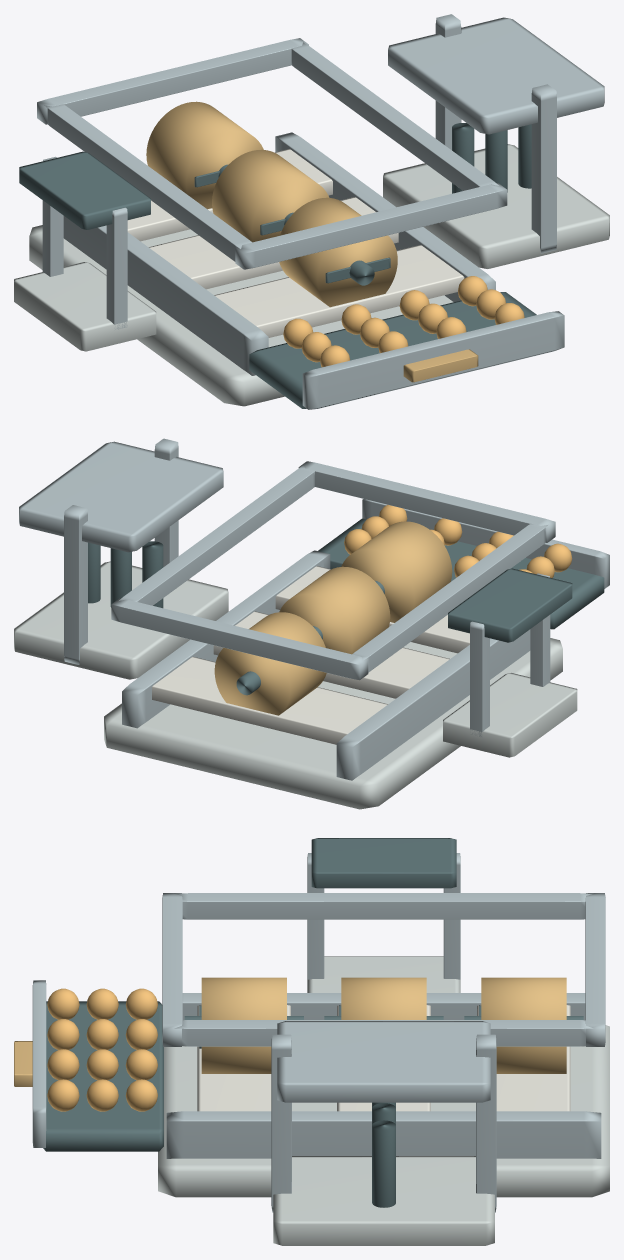
The picture shows the model from 3 angles, top to bottom: view 1: azimuth 30°, elevation 25°; view 2: azimuth 150°, elevation 25°; view 3: azimuth 270°, elevation 25°; orthographic projection. The views are drawn at different scales.
Visible parts, largest first — view 1: ffn_platen, ffn_floor, weight_drawer_front, layer_foot, layer_left_rail, channel_0, normalizer_floor, cover_front, roller_body_2, cover_back, roller_body_1, sizing_jaw (+24 smaller); view 2: layer_foot, ffn_platen, ffn_floor, layer_left_rail, channel_2, normalizer_floor, cover_back, roller_body_0, roller_body_1, roller_body_2, cover_front, sizing_jaw (+16 smaller); view 3: layer_right_rail, ffn_floor, ffn_platen, layer_foot, cover_side_-0.88, weight_drawer_bed, sizing_jaw, roller_body_2, roller_body_0, cover_side_0.88, roller_body_1, normalizer_floor (+25 smaller).
Boxes of the visible parts, x1,y1,x2,y2 form: ffn_platen: (388, 17, 604, 134); ffn_floor: (383, 144, 609, 268); weight_drawer_front: (302, 311, 564, 409); layer_foot: (29, 225, 453, 406); layer_left_rail: (63, 216, 268, 375); channel_0: (214, 245, 464, 337); normalizer_floor: (14, 262, 156, 351); cover_front: (235, 183, 507, 269); roller_body_2: (146, 101, 263, 209); cover_back: (37, 38, 308, 124); roller_body_1: (212, 149, 329, 242); sizing_jaw: (19, 151, 150, 229); layer_foot: (104, 638, 562, 809); ffn_platen: (19, 441, 223, 552); ffn_floor: (14, 561, 228, 679); layer_left_rail: (336, 629, 530, 780); channel_2: (152, 657, 387, 744); normalizer_floor: (443, 673, 577, 757); cover_back: (111, 598, 368, 680); roller_body_0: (341, 521, 452, 622); roller_body_1: (279, 566, 390, 654); roller_body_2: (214, 612, 326, 715); cover_front: (298, 461, 555, 542); sizing_jaw: (448, 568, 572, 642); layer_right_rail: (166, 1111, 601, 1158); ffn_floor: (273, 1156, 494, 1245); ffn_platen: (277, 1021, 490, 1102); layer_foot: (158, 1025, 609, 1197); cover_side_-0.88: (174, 893, 593, 919); weight_drawer_bed: (43, 1001, 163, 1151); sizing_jaw: (311, 838, 456, 888); roller_body_2: (481, 977, 566, 1073); roller_body_0: (201, 977, 286, 1073); cover_side_0.88: (174, 1020, 593, 1046); roller_body_1: (341, 977, 426, 1019); normalizer_floor: (307, 956, 460, 992).
Size of the model in its own units: 3.72 by 1.3 by 3.49.
